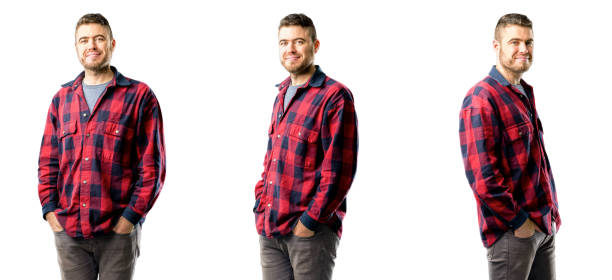Male: (445, 9, 579, 280), (36, 12, 166, 280), (248, 11, 369, 280)
